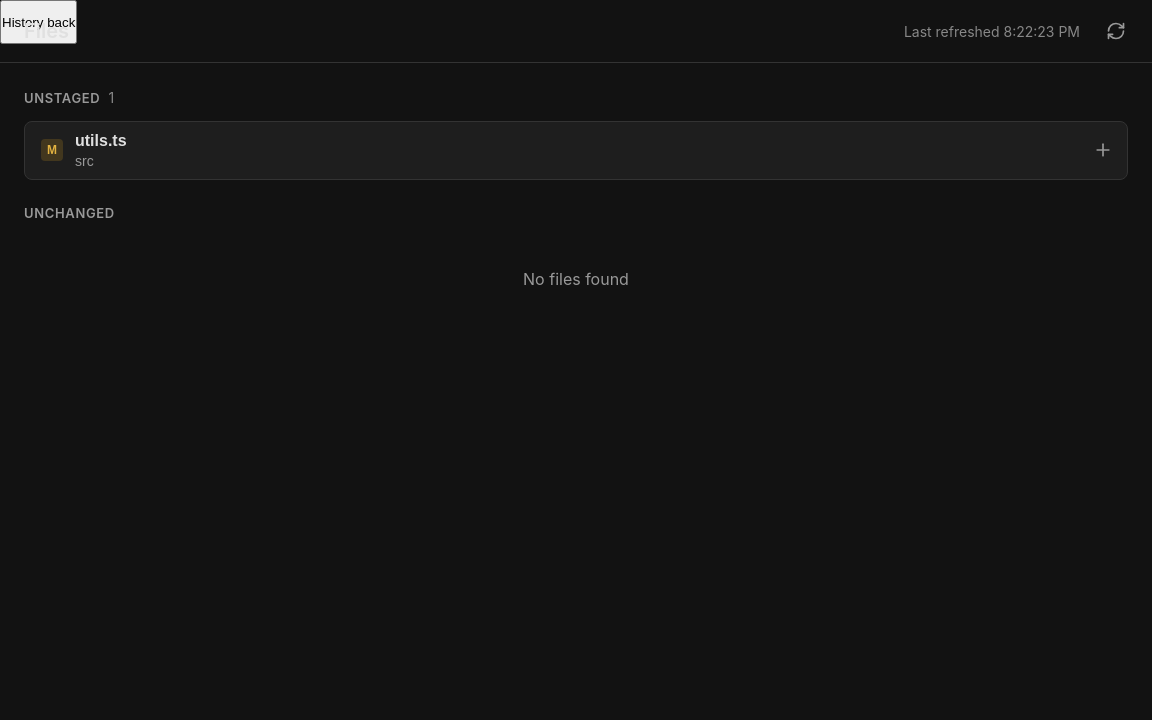
Test: FilesPage › opens editable files directly in the editor
The width and height of the screenshot is (1152, 720).
Click the text "utils.ts": [101, 140] box [75, 132, 127, 148]
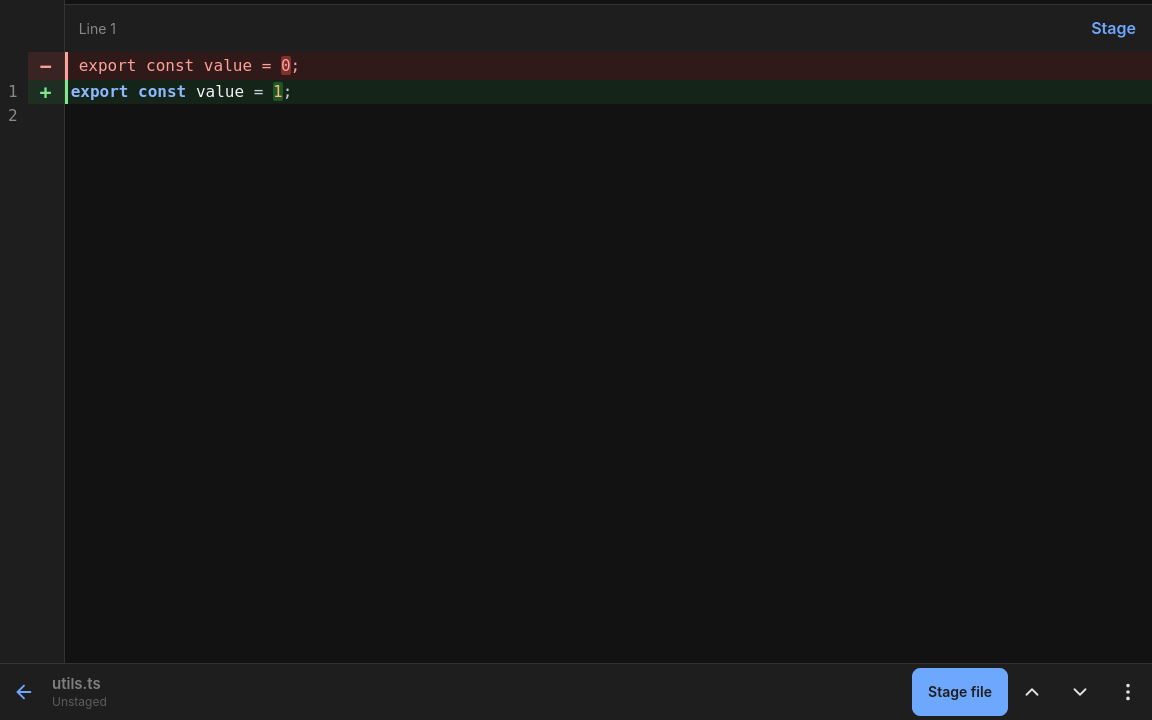
Now the button "Stage file" is shown, box [912, 668, 1008, 716]
Now the text box with class "cm-changedLine--added" is shown, box [65, 80, 1151, 104]
